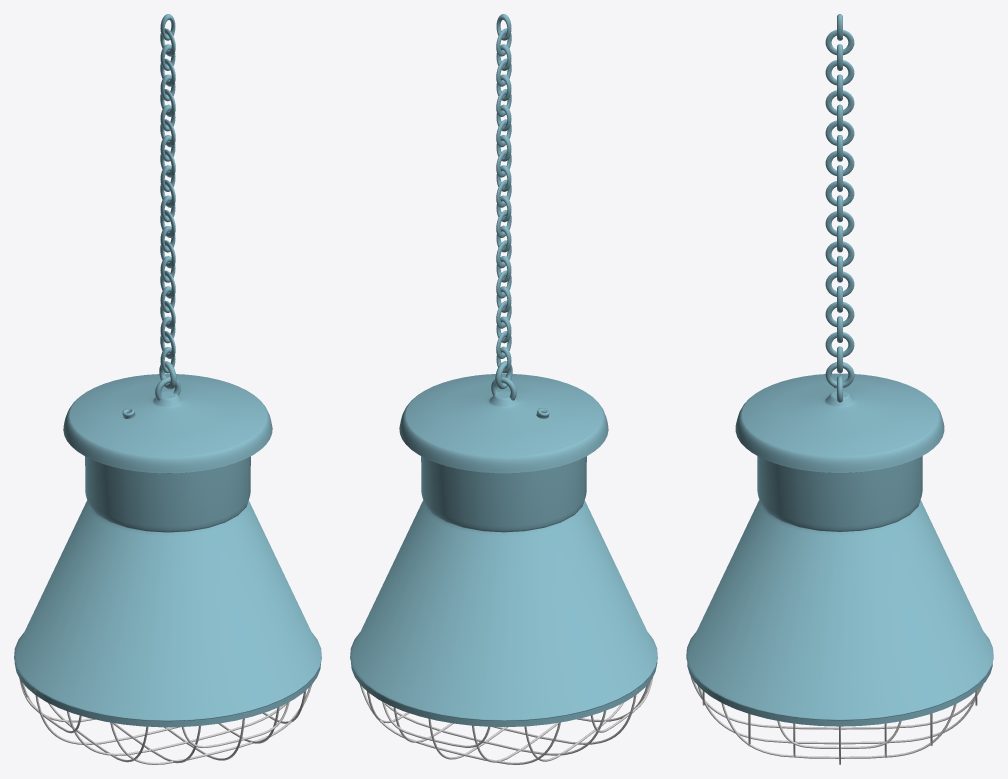
File: 2 OG Leuchte Metall.fbx
3 views of the same model, side by side, from view 1: azimuth 30°, elevation 25°; view 2: azimuth 150°, elevation 25°; view 3: azimuth 270°, elevation 25° (orthographic).
Parts seen in each view (by area): view 1: Lampe_Metall_4, Lampe_Metall_2, Lampe_Metall_3, Lampe_Metall_35, Lampe_Metall_6, Lampe_Metall_63; view 2: Lampe_Metall_4, Lampe_Metall_2, Lampe_Metall_3, Lampe_Metall_35, Lampe_Metall_6, Lampe_Metall_63; view 3: Lampe_Metall_4, Lampe_Metall_2, Lampe_Metall_3, Lampe_Metall_63, Lampe_Metall_6, Lampe_Metall_35.
Part boxes in pixels (x1=…): Lampe_Metall_4: x1=14, y1=500, x2=321, y2=721; Lampe_Metall_2: x1=63, y1=374, x2=272, y2=473; Lampe_Metall_3: x1=85, y1=456, x2=250, y2=532; Lampe_Metall_35: x1=20, y1=681, x2=312, y2=764; Lampe_Metall_6: x1=14, y1=662, x2=320, y2=727; Lampe_Metall_63: x1=19, y1=678, x2=306, y2=763; Lampe_Metall_4: x1=350, y1=500, x2=657, y2=720; Lampe_Metall_2: x1=399, y1=373, x2=608, y2=473; Lampe_Metall_3: x1=421, y1=456, x2=586, y2=532; Lampe_Metall_35: x1=360, y1=682, x2=649, y2=764; Lampe_Metall_6: x1=351, y1=661, x2=657, y2=726; Lampe_Metall_63: x1=367, y1=677, x2=652, y2=762; Lampe_Metall_4: x1=686, y1=500, x2=993, y2=720; Lampe_Metall_2: x1=735, y1=373, x2=944, y2=472; Lampe_Metall_3: x1=757, y1=456, x2=922, y2=531; Lampe_Metall_63: x1=690, y1=675, x2=983, y2=758; Lampe_Metall_6: x1=687, y1=663, x2=992, y2=726; Lampe_Metall_35: x1=702, y1=690, x2=977, y2=764.
Size of the model in its own units: 56.8 by 146 by 56.81.
